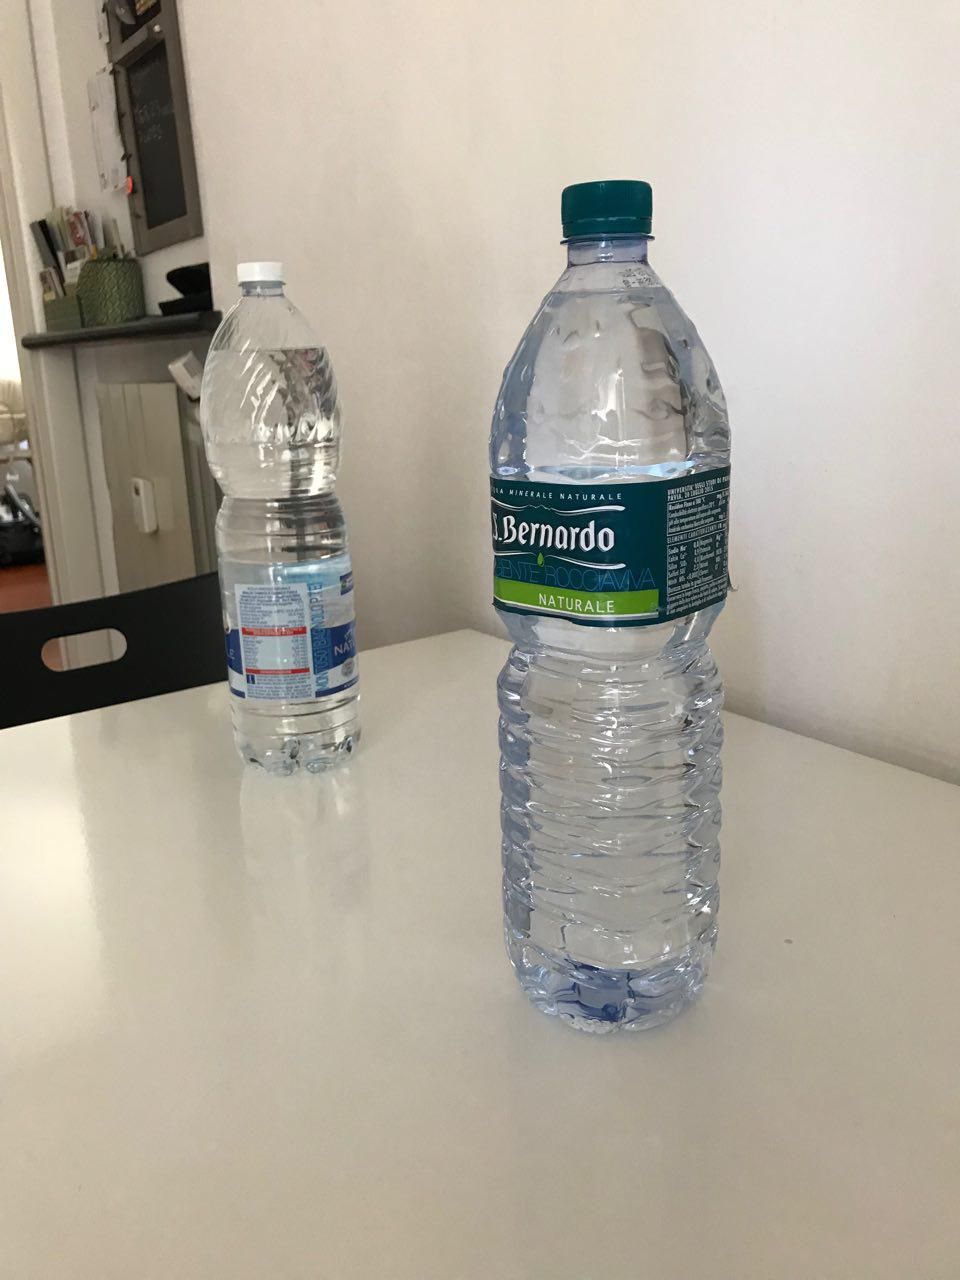san_bernardo: (488, 179, 732, 1034)
